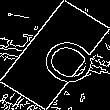O_NW: (18, 23, 92, 87)
